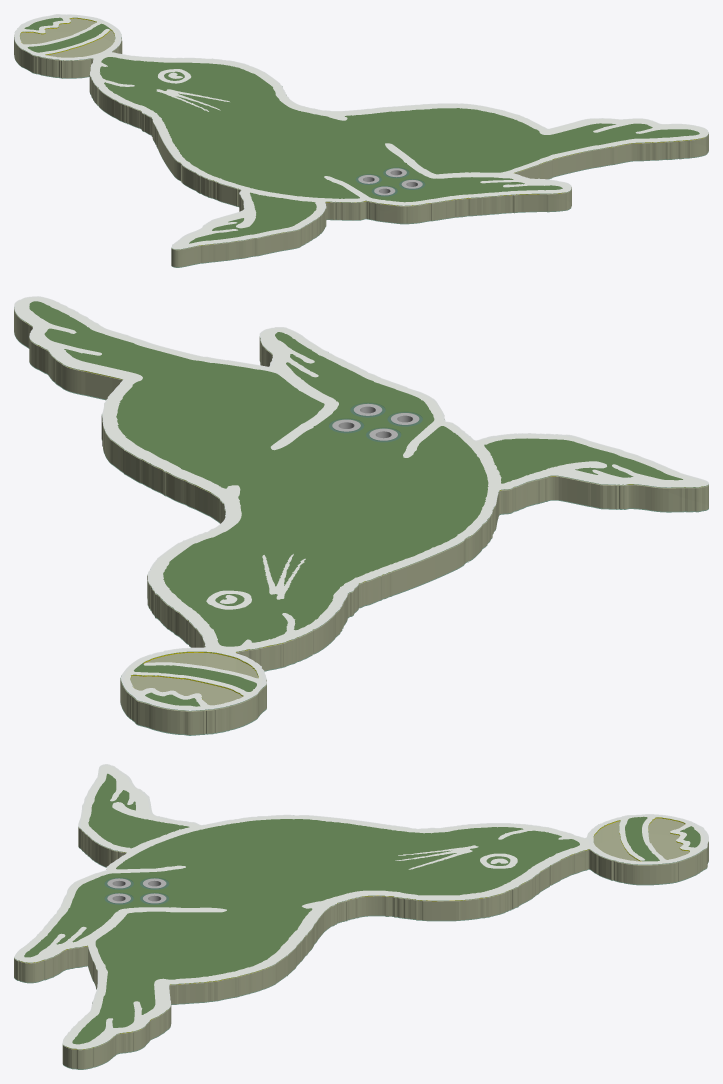
The model's file is offzone-2024-seal-add-on.glb.
3 renders of one model, top to bottom at view 1: azimuth 30°, elevation 25°; view 2: azimuth 150°, elevation 25°; view 3: azimuth 270°, elevation 25°, orthographic. The views are drawn at different scales.
Parts seen in each view (by area): view 1: =>[0:1:1:6], =>[0:1:1:2], =>[0:1:1:8], =>[0:1:1:4]; view 2: =>[0:1:1:6], =>[0:1:1:2], =>[0:1:1:8], =>[0:1:1:4]; view 3: =>[0:1:1:6], =>[0:1:1:2], =>[0:1:1:8], =>[0:1:1:4].
Boxes of the visible parts, x1,y1,x2,y2 form: =>[0:1:1:6]: (14, 17, 708, 267); =>[0:1:1:2]: (20, 18, 704, 245); =>[0:1:1:8]: (14, 18, 708, 267); =>[0:1:1:4]: (14, 14, 708, 249); =>[0:1:1:6]: (14, 301, 708, 735); =>[0:1:1:2]: (26, 302, 702, 705); =>[0:1:1:8]: (14, 308, 708, 734); =>[0:1:1:4]: (14, 296, 708, 710); =>[0:1:1:6]: (14, 773, 708, 1069); =>[0:1:1:2]: (19, 774, 699, 1049); =>[0:1:1:8]: (14, 818, 708, 1069); =>[0:1:1:4]: (14, 764, 708, 1049).
Size of the model in its own units: 0.0483 by 0.00166 by 0.0498.
4 materials, 4 textured.
